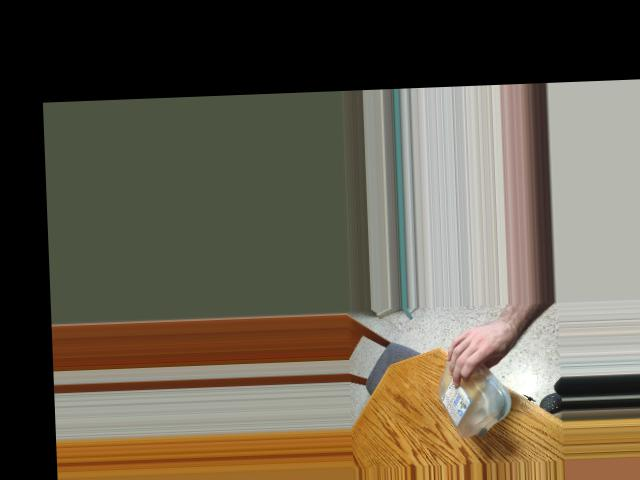cheese: (432, 344, 510, 441)
